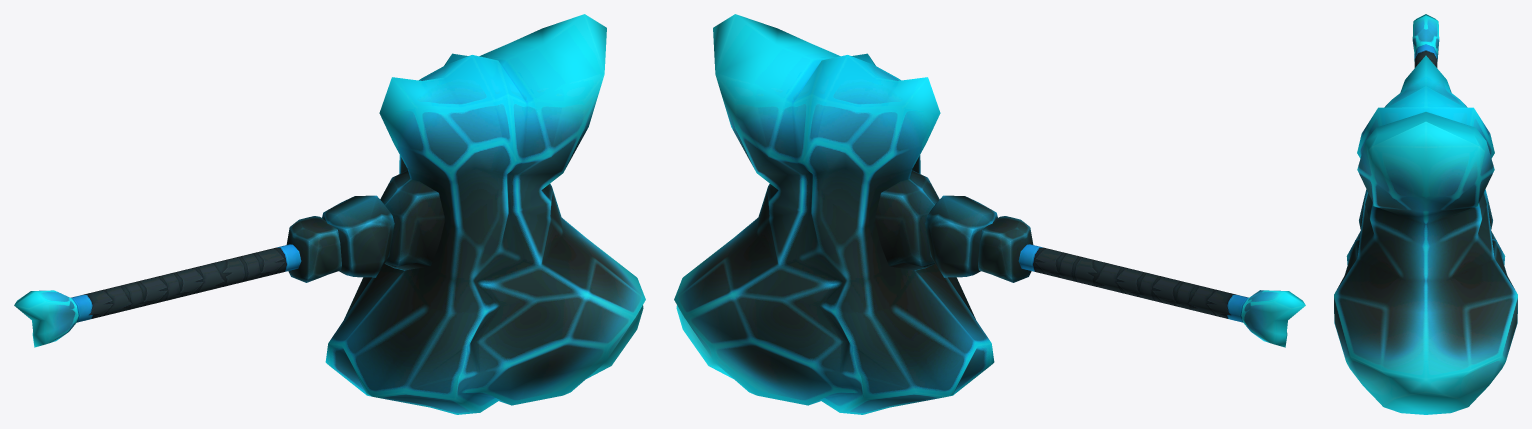
The model's file is item_weaaxtmgm2501-et03.glb.
3 renders of one model, left to right at view 1: azimuth 30°, elevation 25°; view 2: azimuth 150°, elevation 25°; view 3: azimuth 270°, elevation 25°, orthographic. The views are drawn at different scales.
Visible parts, largest first — view 1: FlyffMesh; view 2: FlyffMesh; view 3: FlyffMesh.
Part boxes in pixels (<box>): FlyffMesh: <box>14,14,645,414</box>; FlyffMesh: <box>674,14,1305,414</box>; FlyffMesh: <box>1334,14,1517,414</box>.
Size of the model in its own units: 1.64 by 0.9058 by 0.4885.
1 material, 1 textured.
